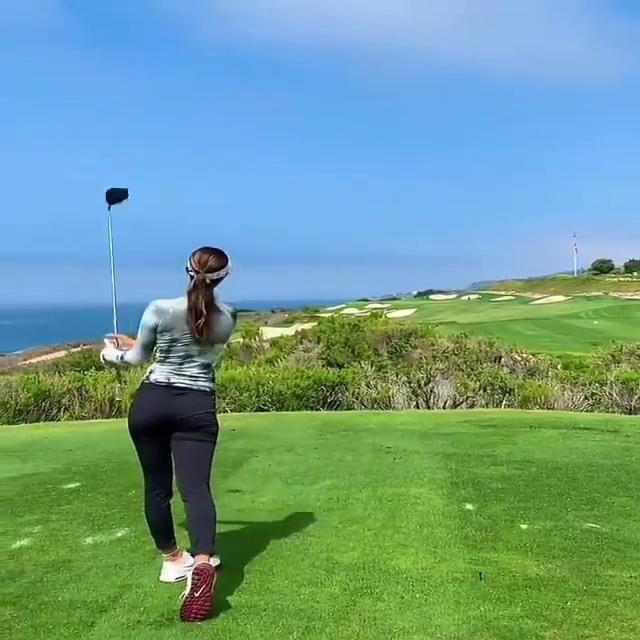ClubHead: (105, 187, 128, 207)
